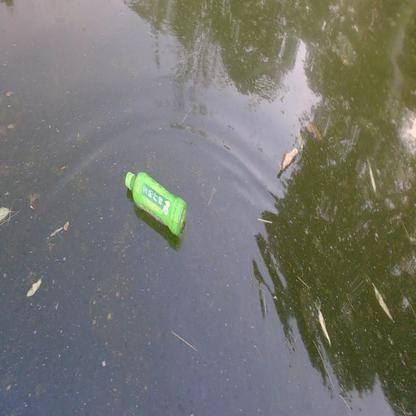plastic bottle: (125, 170, 188, 235)
